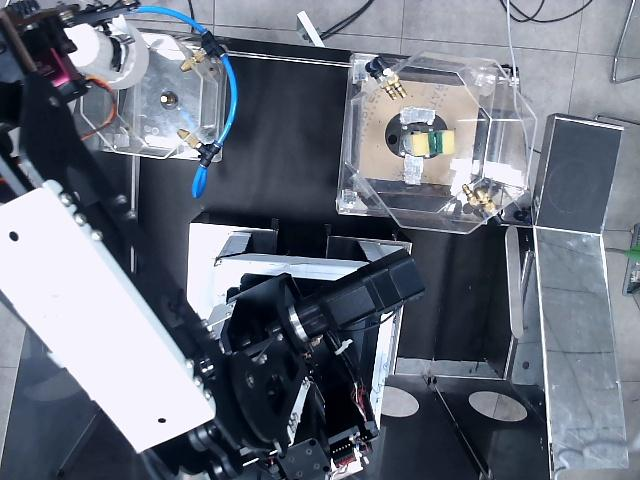cup: (65, 15, 148, 89)
